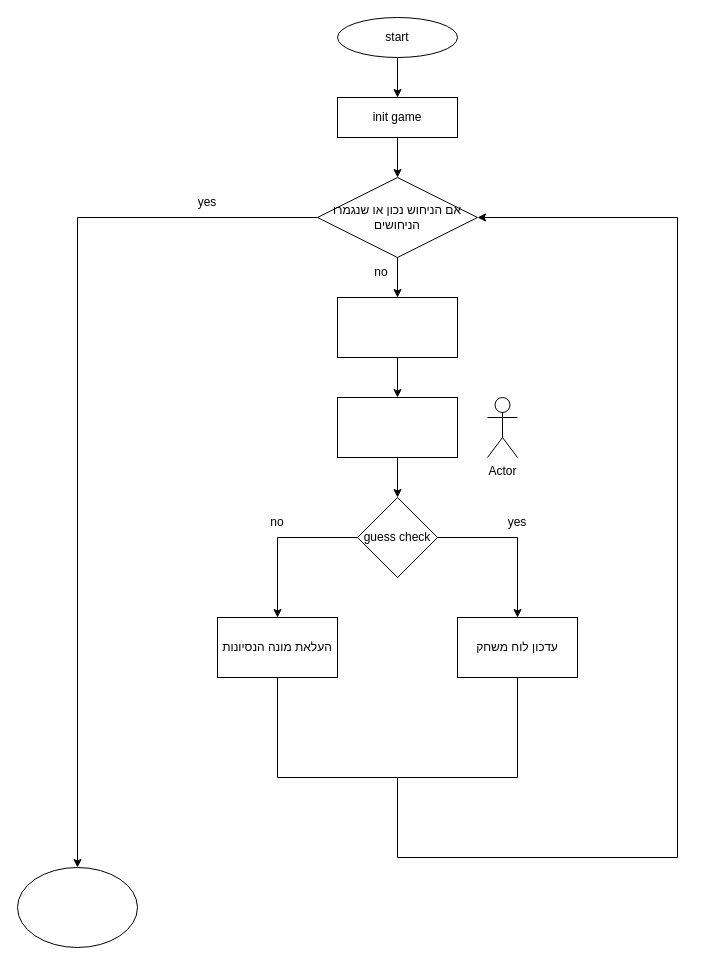
Some shapes in this 703 by 965 pixel diagram are drawn without their labels. Here are the shapes that lost their labels. From the top down, the centre of each, then its label:
At (x=397, y=327): "print".
At (x=397, y=427): "input".
At (x=77, y=907): "end".
